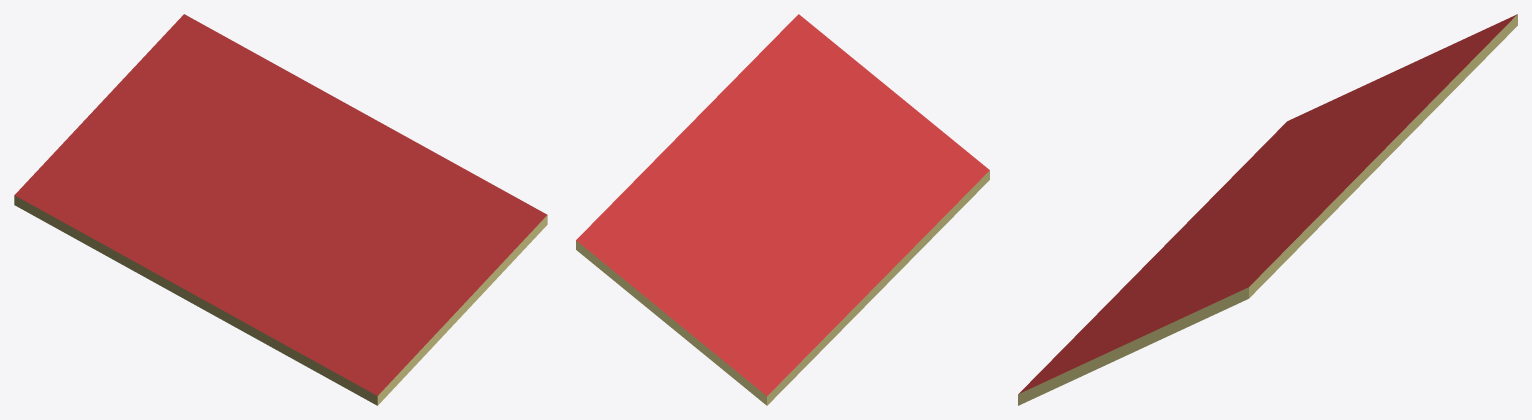
The picture shows the model from 3 angles, left to right: view 1: azimuth 30°, elevation 25°; view 2: azimuth 150°, elevation 25°; view 3: azimuth 330°, elevation 25°; orthographic projection. The views are drawn at different scales.
Bounding box in the file's own units: 2.65 × 5.68 × 1.38.
